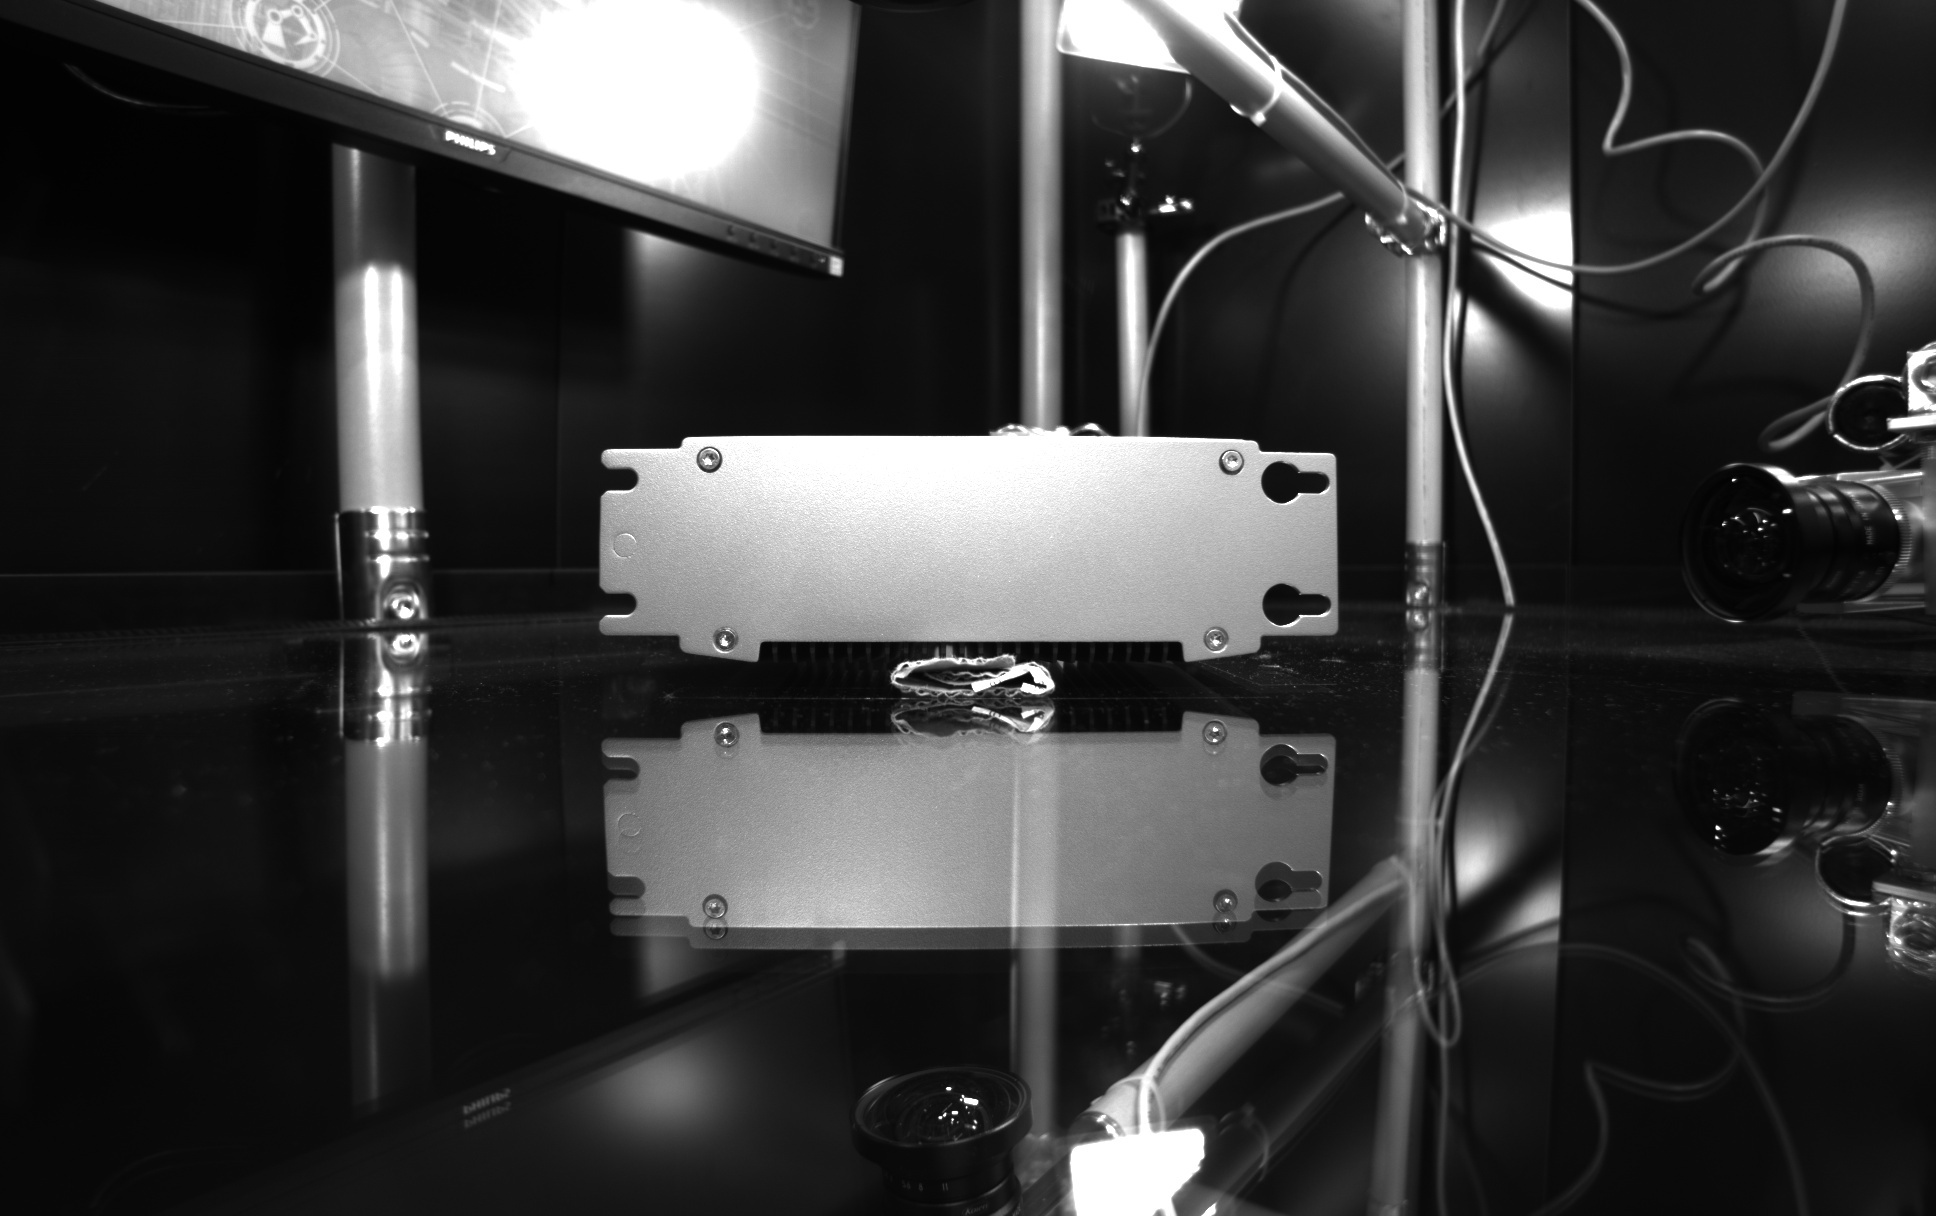CamBack: (565, 409, 1370, 670)
Schraube: (1198, 619, 1236, 658), (707, 621, 745, 658)
Schraube_gespiegelt: (695, 887, 740, 950), (1206, 878, 1245, 941), (1191, 716, 1236, 771), (707, 714, 747, 772)
Schraube_halb: (689, 443, 728, 482), (1212, 445, 1250, 483)
